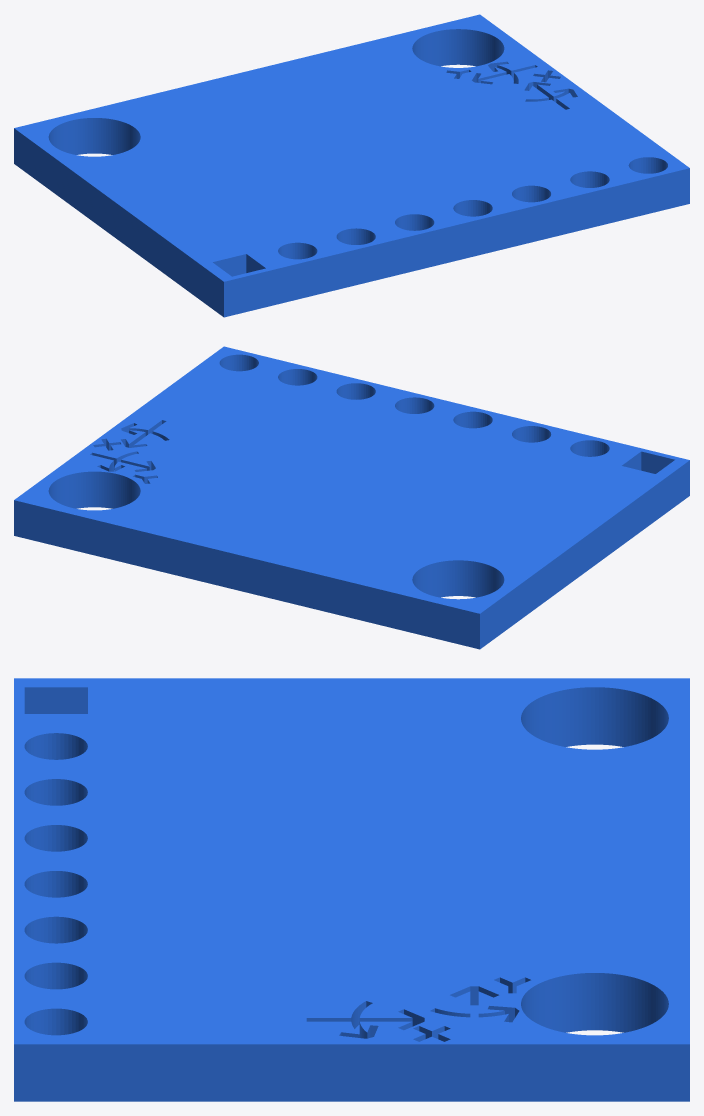
The model's file is pendulum_robot_pcb_gqxlj9.dae.
3 views of the same model, one above another, from view 1: azimuth 30°, elevation 25°; view 2: azimuth 150°, elevation 25°; view 3: azimuth 270°, elevation 25° (orthographic). The views are drawn at different scales.
Parts seen in each view (by area): view 1: node0; view 2: node0; view 3: node0.
Boxes of the visible parts, x1,y1,x2,y2 form: node0: [14, 14, 689, 317]; node0: [14, 346, 689, 649]; node0: [14, 678, 689, 1101].
Size of the model in its own units: 0.0205 by 0.016 by 0.0015.
